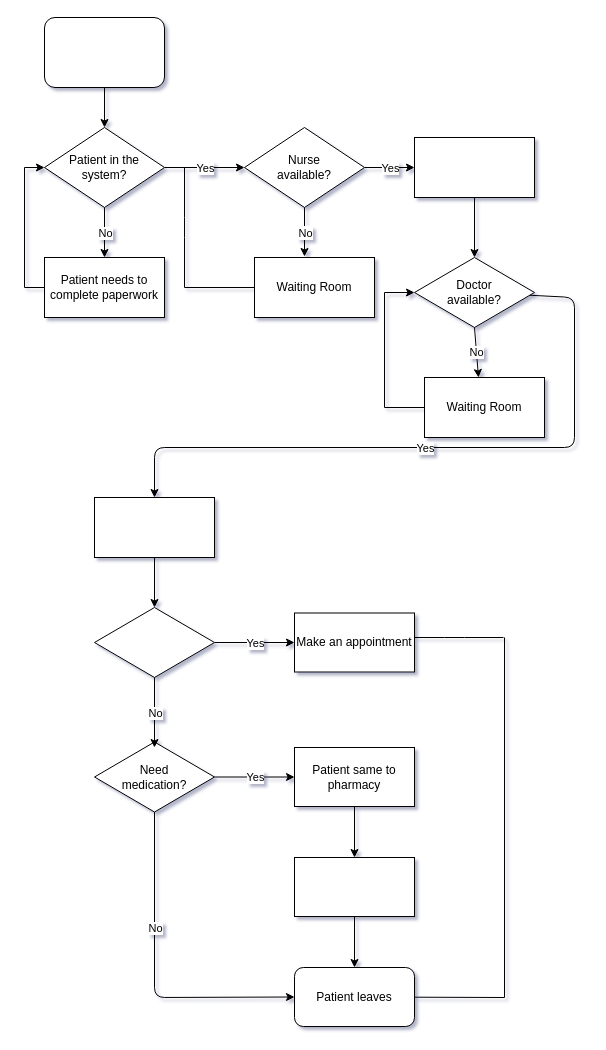
This 606x1050 diagram has some shape labels left out. The centre of each missing label's shape, as x and y in pixels:
Dispense medication: pixel 354 886
Need follow-up appointment?: pixel 154 642
Patient arrives: pixel 104 52
Patient with Doctor: pixel 154 527
Take pulse,blood pressure, weight, urnie: pixel 474 167
